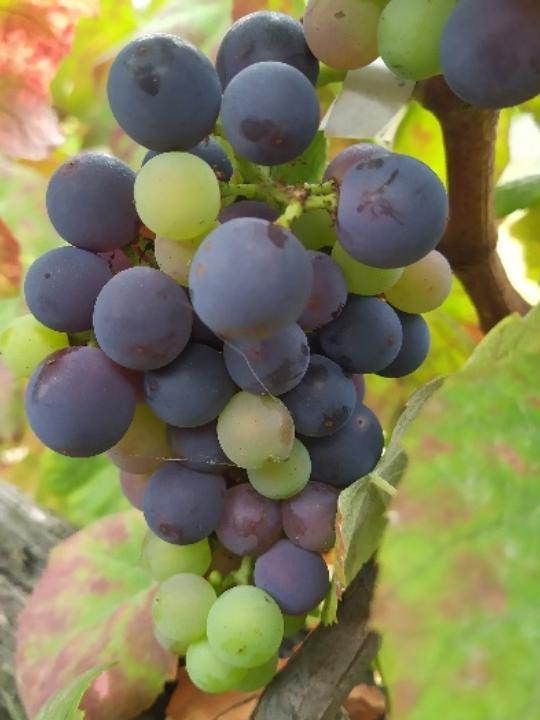grape: (17, 8, 462, 698)
